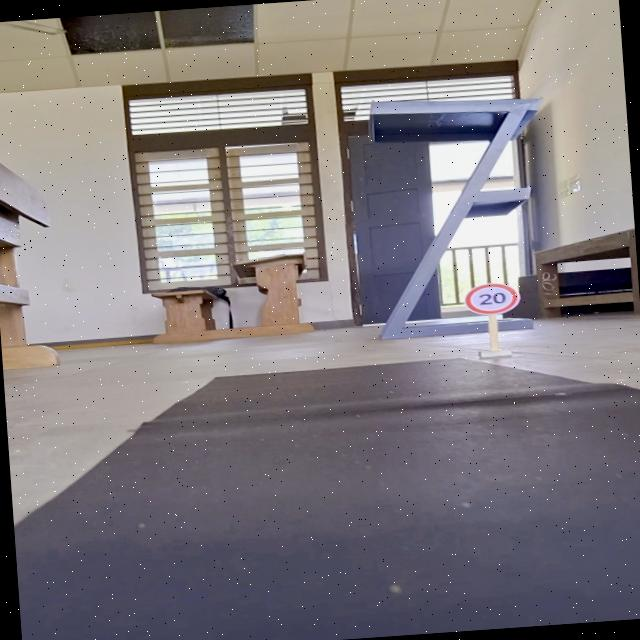Speed20: (460, 279, 524, 319)
